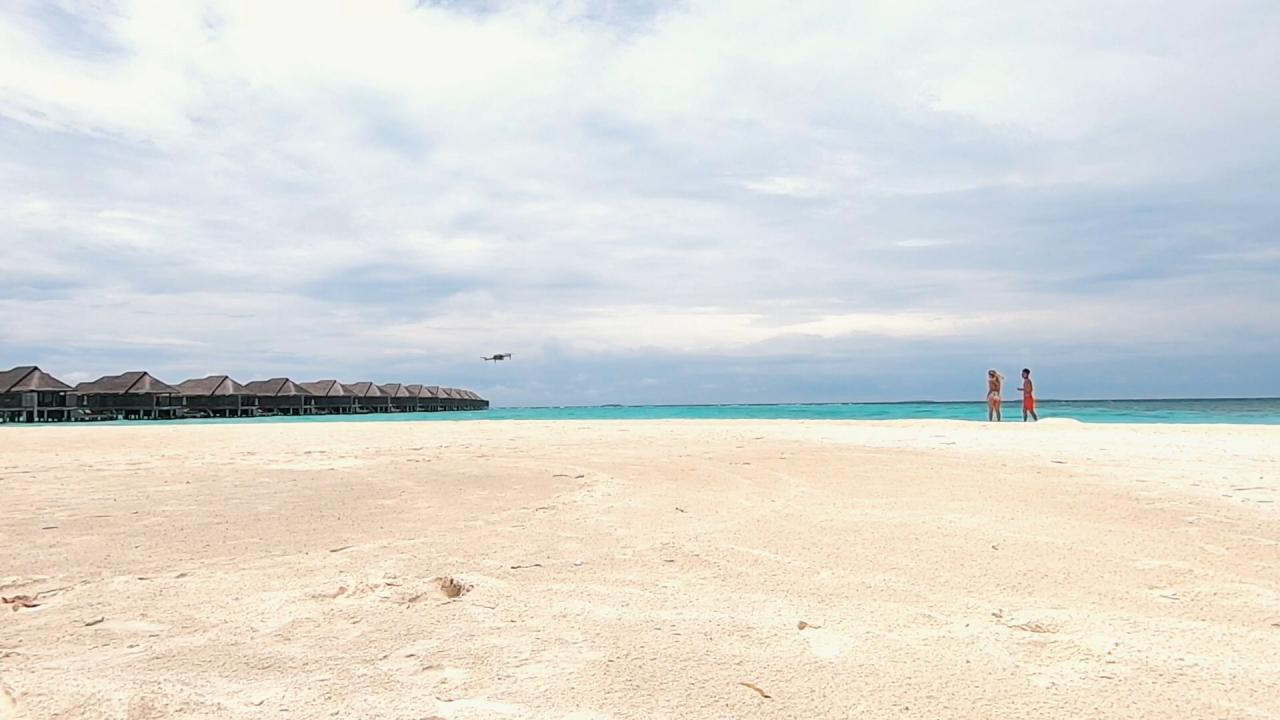Drone: (473, 343, 520, 370)
